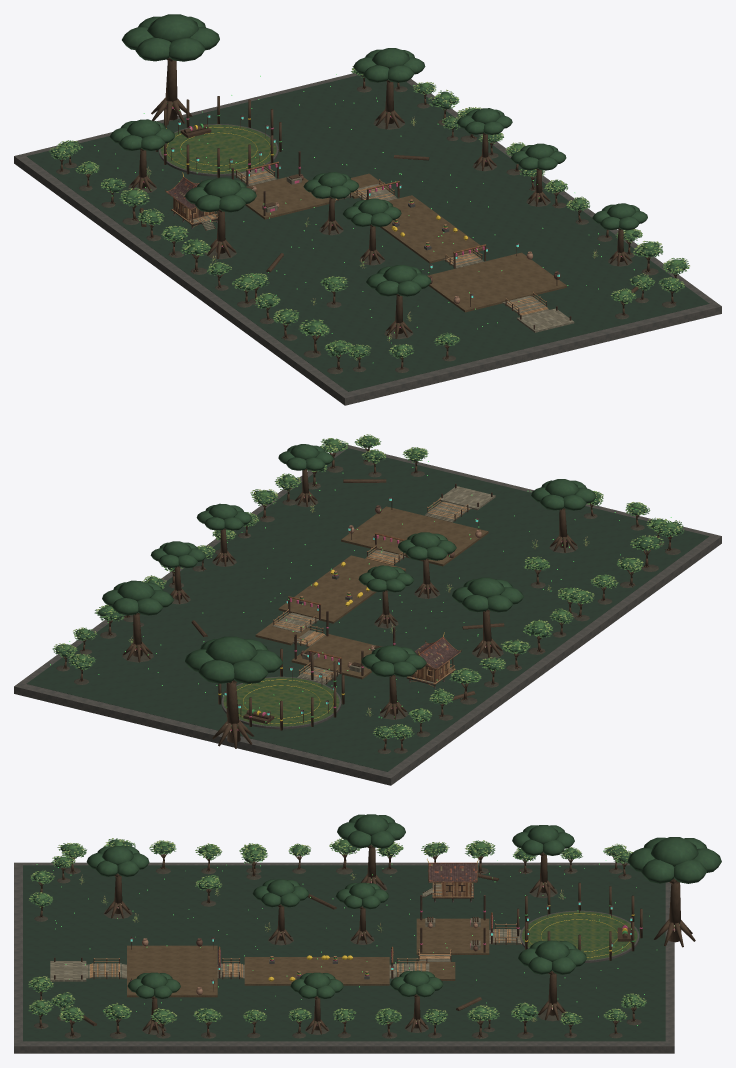
File: dg-takhian.glb
3 views of the same model, one above another, from view 1: azimuth 30°, elevation 25°; view 2: azimuth 150°, elevation 25°; view 3: azimuth 270°, elevation 25° (orthographic).
Visible parts, largest first — view 1: Water surface | water_swamp, Takhian canopy | leaf_dark, Dungeon foundation | stone_dark, Courtyard flagstones | earth_forest, Organic tree foliage | leaf_dark, Mossy clearing | moss_dark, Dark islets | mud_dark, Under-house packed earth | earth_forest, Fine outer tree leaves | leaf, Fine outer tree leaves | leaf4, Takhian trunks | bark_takhian, Takhian buttress roots | bark_takhian (+9 smaller); view 2: Water surface | water_swamp, Takhian canopy | leaf_dark, Dungeon foundation | stone_dark, Organic tree foliage | leaf_dark, Dark islets | mud_dark, Mossy clearing | moss_dark, Courtyard flagstones | earth_forest, Under-house packed earth | earth_forest, Takhian trunks | bark_takhian, Fine outer tree leaves | leaf4, Fine outer tree leaves | leaf, Takhian buttress roots | bark_takhian (+11 smaller); view 3: Water surface | water_swamp, Takhian canopy | leaf_dark, Dungeon foundation | stone_dark, Organic tree foliage | leaf_dark, Courtyard flagstones | earth_forest, Dark islets | mud_dark, Under-house packed earth | earth_forest, Mossy clearing | moss_dark, Fine outer tree leaves | leaf4, Fine outer tree leaves | leaf, Takhian trunks | bark_takhian, Kitchen floor | earth_forest (+15 smaller).
Part boxes in pixels (box(x1,y1,x2,y2)): Water surface | water_swamp: box(26, 74, 709, 391); Takhian canopy | leaf_dark: box(109, 14, 647, 296); Dungeon foundation | stone_dark: box(14, 73, 721, 405); Courtyard flagstones | earth_forest: box(427, 252, 566, 312); Organic tree foliage | leaf_dark: box(51, 70, 686, 357); Mossy clearing | moss_dark: box(160, 124, 276, 173); Dark islets | mud_dark: box(56, 86, 680, 374); Under-house packed earth | earth_forest: box(380, 195, 483, 263); Fine outer tree leaves | leaf: box(49, 68, 689, 358); Fine outer tree leaves | leaf4: box(49, 68, 688, 358); Takhian trunks | bark_takhian: box(138, 60, 623, 333); Takhian buttress roots | bark_takhian: box(130, 97, 631, 338); Water surface | water_swamp: box(26, 448, 708, 771); Takhian canopy | leaf_dark: box(102, 444, 596, 683); Dungeon foundation | stone_dark: box(14, 445, 721, 785); Organic tree foliage | leaf_dark: box(56, 438, 681, 738); Dark islets | mud_dark: box(56, 461, 680, 753); Mossy clearing | moss_dark: box(223, 677, 339, 726); Courtyard flagstones | earth_forest: box(341, 506, 488, 566); Under-house packed earth | earth_forest: box(278, 555, 405, 623); Takhian trunks | bark_takhian: box(133, 469, 567, 742); Fine outer tree leaves | leaf4: box(54, 434, 683, 739); Fine outer tree leaves | leaf: box(52, 434, 683, 738); Takhian buttress roots | bark_takhian: box(122, 491, 576, 748); Water surface | water_swamp: box(23, 865, 665, 1041); Takhian canopy | leaf_dark: box(86, 814, 721, 998); Dungeon foundation | stone_dark: box(14, 862, 674, 1053); Organic tree foliage | leaf_dark: box(31, 839, 643, 1023); Courtyard flagstones | earth_forest: box(127, 945, 217, 997); Dark islets | mud_dark: box(33, 867, 641, 1038); Under-house packed earth | earth_forest: box(244, 957, 389, 985); Mossy clearing | moss_dark: box(522, 911, 637, 960); Fine outer tree leaves | leaf4: box(28, 838, 645, 1024); Fine outer tree leaves | leaf: box(28, 838, 646, 1025); Takhian trunks | bark_takhian: box(114, 845, 681, 1030); Kitchen floor | earth_forest: box(416, 918, 489, 954).
Bounding box in the file's own units: 96 × 26.4 × 156.
Materials: 32 (32 with a texture image).
